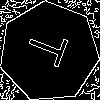T: (24, 26, 77, 72)
